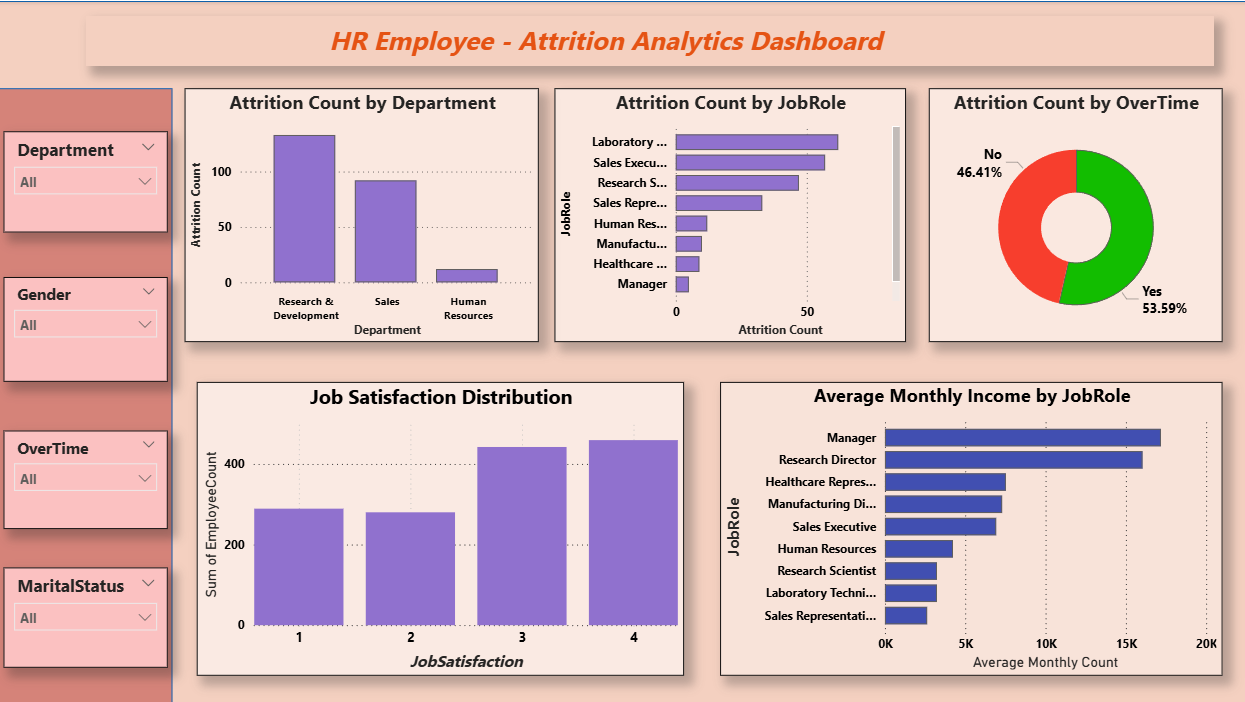

The dashboard page shown, as its layout file describes it:
{"tool":"powerbi","page":{"name":"Page 1","canvas":[1280,720],"ordinal":0},"visuals":[{"type":"shape","box":[0,0,1279.8,719.9],"z":0},{"type":"shape","box":[0,89,178,630.9],"z":1000},{"type":"clusteredColumnChart","fields":{"Y":["Employee.Attrition Count"],"Category":["Employee.Department"]},"box":[190.4,89,361.6,259.1],"z":2000},{"type":"barChart","fields":{"Category":["Employee.JobRole"],"Y":["Employee.Attrition Count"]},"box":[567.8,89,358.3,259.1],"z":3000},{"type":"donutChart","fields":{"Category":["Employee.OverTime"],"Y":["Employee.Attrition Count"]},"box":[949.7,89,299.7,259.1],"z":4000},{"type":"barChart","title":"Average Monthly Income by JobRole","fields":{"Category":["Employee.JobRole"],"Y":["Employee.Average Monthly Count"]},"box":[736.8,388.7,512.6,299.7],"z":5000},{"type":"columnChart","title":"Job Satisfaction Distribution","fields":{"Category":["Employee.JobSatisfaction"],"Y":["Sum(Employee.EmployeeCount)"]},"box":[202.8,388.7,496.8,299.7],"z":6000},{"type":"slicer","fields":{"Values":["Employee.Department"]},"box":[5.6,132.9,167.9,103.6],"z":7000},{"type":"slicer","fields":{"Values":["Employee.Gender"]},"box":[5.6,281.7,167.9,107],"z":8000},{"type":"slicer","fields":{"Values":["Employee.OverTime"]},"box":[5.6,438.2,167.9,100.3],"z":8001},{"type":"slicer","fields":{"Values":["Employee.MaritalStatus"]},"box":[5.6,577.9,167.9,102.5],"z":8002},{"type":"shape","box":[56.3,7.9,1193.1,67.6],"z":8003},{"type":"textbox","box":[90.1,15.8,1150.3,50.7],"z":8004}]}

Visuals, with their boxes in screenshot pixels (x1, y1, x2, y2), scaled from the page's 1280x720 canvas onto the 1245x702 screenshot:
shape: left=0, top=0, right=1244, bottom=701
shape: left=0, top=87, right=173, bottom=701
clusteredColumnChart - Employee.Attrition Count x Employee.Department: left=185, top=87, right=537, bottom=339
barChart - Employee.JobRole x Employee.Attrition Count: left=552, top=87, right=901, bottom=339
donutChart - Employee.OverTime x Employee.Attrition Count: left=924, top=87, right=1215, bottom=339
"Average Monthly Income by JobRole" barChart: left=717, top=379, right=1215, bottom=671
"Job Satisfaction Distribution" columnChart: left=197, top=379, right=680, bottom=671
slicer - Employee.Department: left=5, top=130, right=169, bottom=231
slicer - Employee.Gender: left=5, top=275, right=169, bottom=379
slicer - Employee.OverTime: left=5, top=427, right=169, bottom=525
slicer - Employee.MaritalStatus: left=5, top=563, right=169, bottom=663
shape: left=55, top=8, right=1215, bottom=74
textbox: left=88, top=15, right=1206, bottom=65
